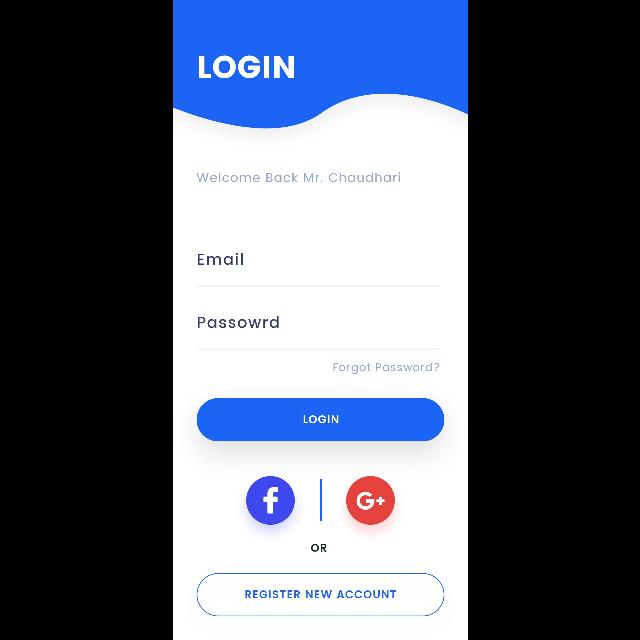icon: (346, 476, 394, 524), (246, 476, 294, 524)
input: (196, 253, 440, 287), (196, 316, 440, 350)
text: (198, 56, 294, 78), (196, 172, 400, 182), (333, 362, 439, 373), (198, 316, 278, 328), (198, 253, 242, 265), (310, 544, 326, 552)
textbutton: (196, 398, 444, 442), (196, 574, 444, 616)
